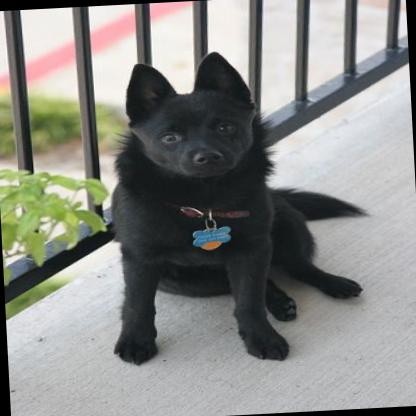schipperke: (93, 38, 370, 371)
